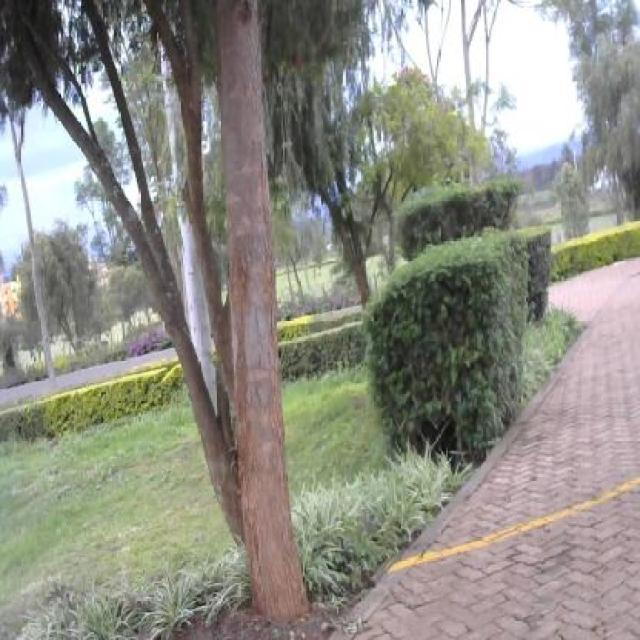tree trunk: (156, 70, 310, 638)
